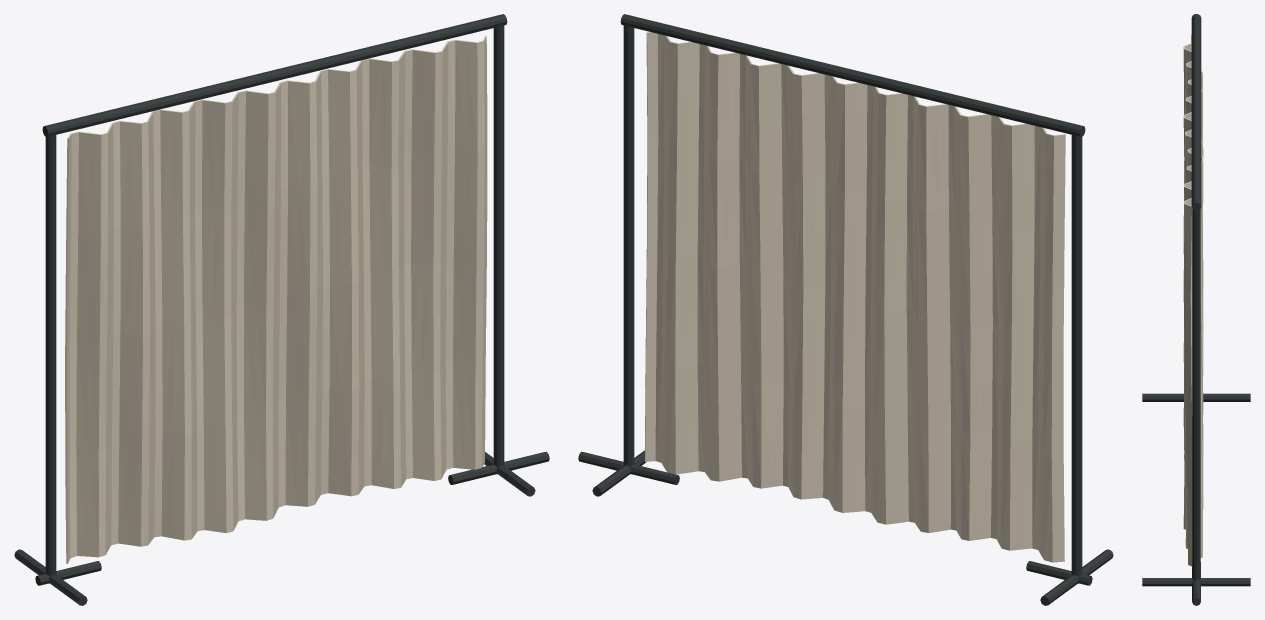
File: SM_CreatorCoupleHouse_Backdrop.fbx
The picture shows the model from 3 angles, left to right: view 1: azimuth 30°, elevation 25°; view 2: azimuth 150°, elevation 25°; view 3: azimuth 270°, elevation 25°; orthographic projection. The views are drawn at different scales.
Visible parts, largest first — view 1: SM_CreatorCoupleHouse_Backdrop; view 2: SM_CreatorCoupleHouse_Backdrop; view 3: SM_CreatorCoupleHouse_Backdrop.
Boxes of the visible parts, x1,y1,x2,y2 form: SM_CreatorCoupleHouse_Backdrop: [14, 14, 549, 605]; SM_CreatorCoupleHouse_Backdrop: [578, 14, 1113, 605]; SM_CreatorCoupleHouse_Backdrop: [1142, 14, 1250, 605].
Size of what is drawn, in the model's own units: 275 by 60 by 236.
